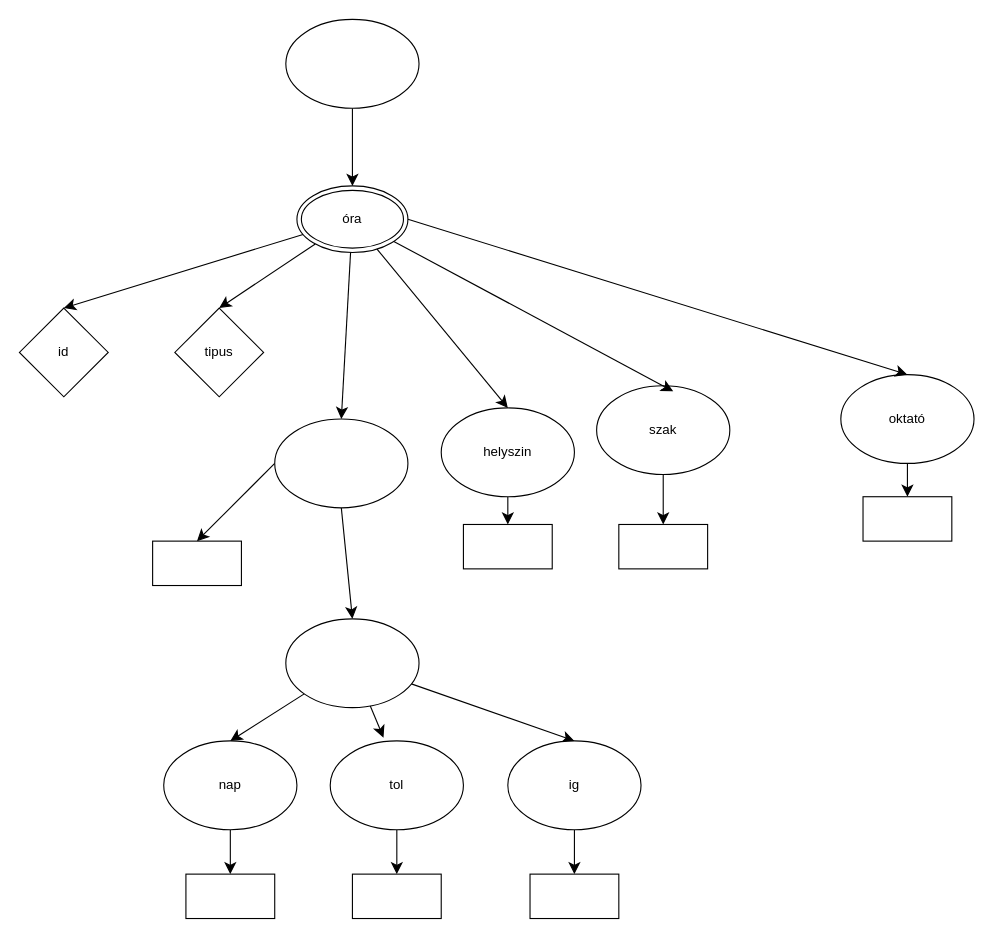
Some shapes in this 993 by 938 pixel diagram are drawn without their labels. Here are the shapes that lost their labels. From the top down, the box of each, then its label:
(285, 18, 419, 108): E24HDO_orarend
(274, 418, 408, 508): targy
(285, 618, 419, 708): idopont
